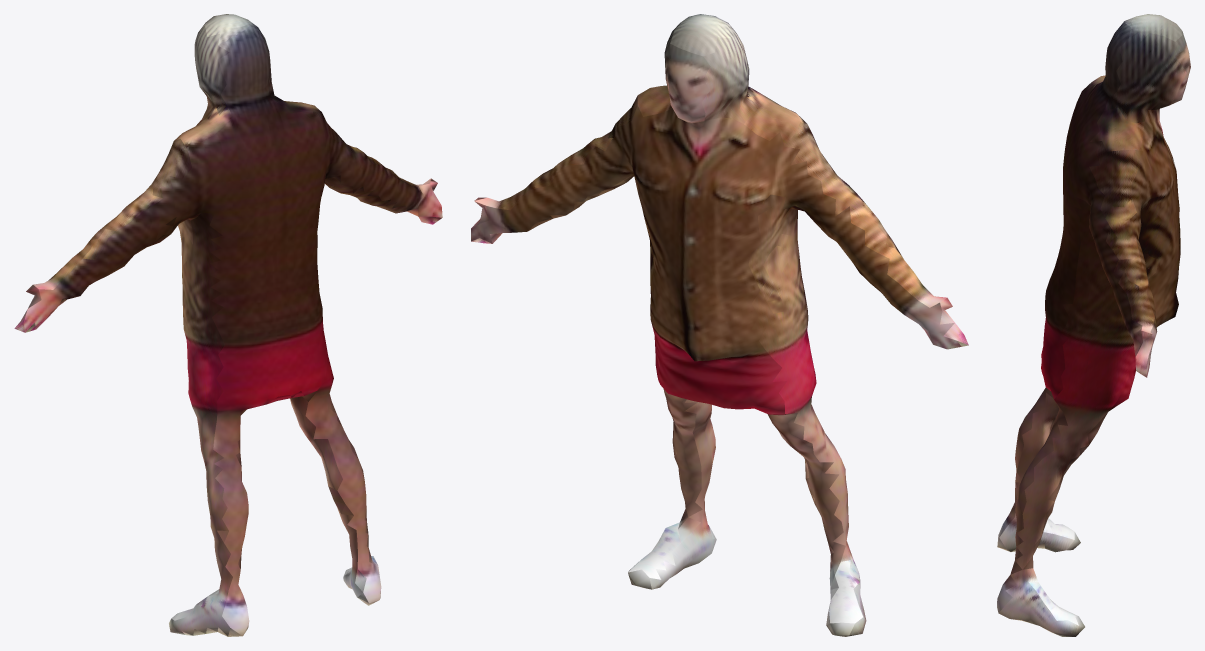
The picture shows the model from 3 angles, left to right: view 1: azimuth 30°, elevation 25°; view 2: azimuth 150°, elevation 25°; view 3: azimuth 270°, elevation 25°; orthographic projection. The views are drawn at different scales.
Parts seen in each view (by area): view 1: world; view 2: world; view 3: world.
Boxes of the visible parts, x1=… form: world: x1=14, y1=14, x2=442, y2=636; world: x1=471, y1=14, x2=968, y2=636; world: x1=997, y1=14, x2=1190, y2=636.
Bounding box in the file's own units: 0.8148 × 1 × 0.3071.
Materials: 1 (1 with a texture image).
